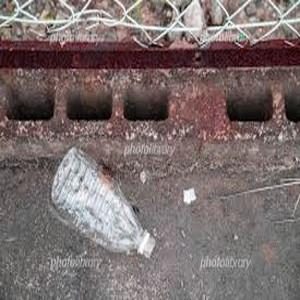Plastic: (47, 145, 165, 264)
